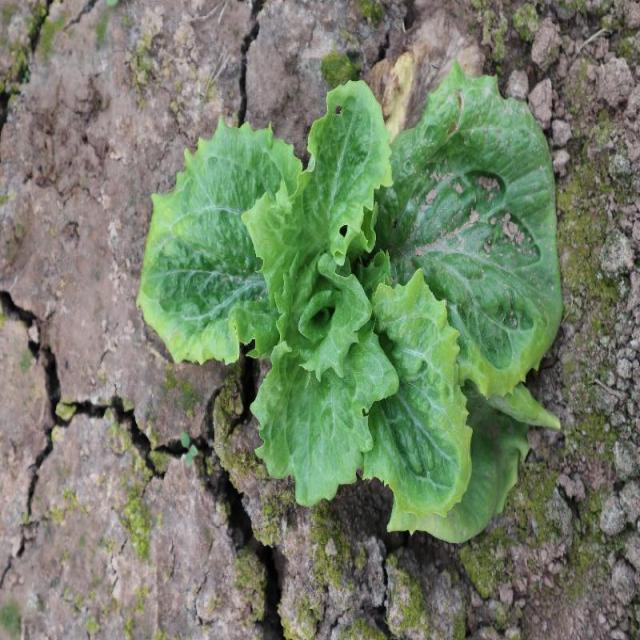crop: (138, 74, 561, 546)
